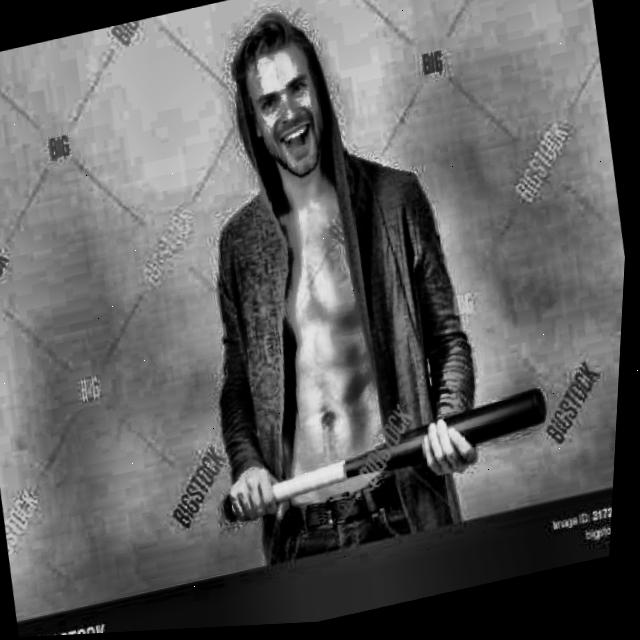tongkat pemukul: (198, 377, 567, 551)
